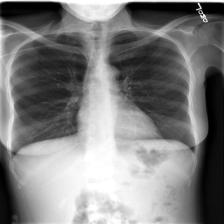normal: (6, 29, 201, 156)
